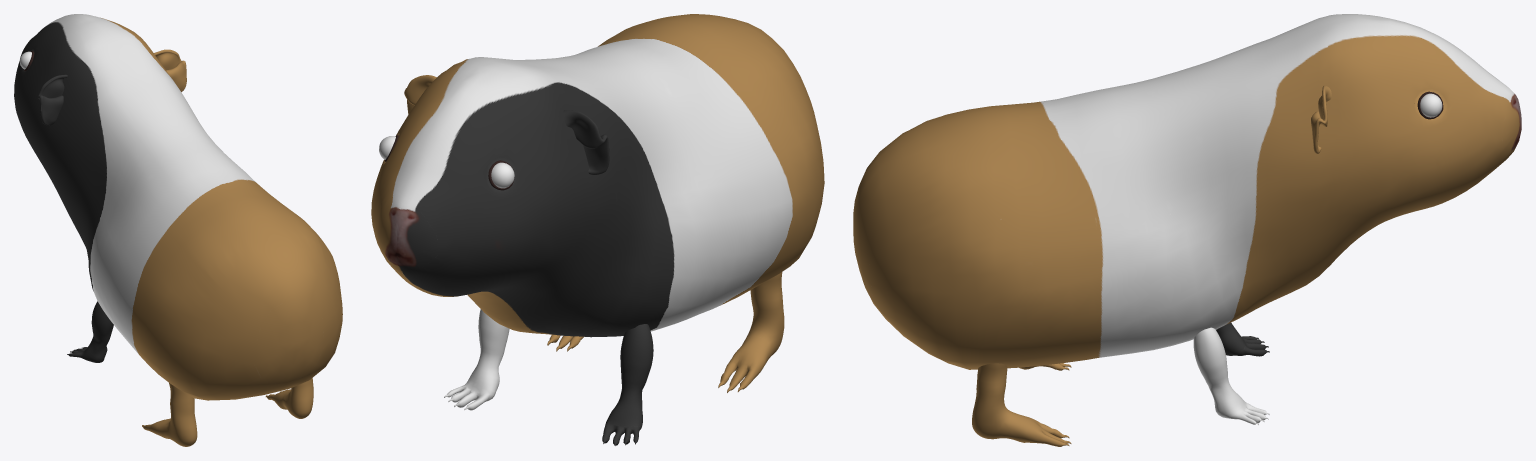
The model's file is uploads_files_2580054_guinea-pig01.fbx.
3 views of the same model, side by side, from view 1: azimuth 30°, elevation 25°; view 2: azimuth 150°, elevation 25°; view 3: azimuth 270°, elevation 25° (orthographic). The views are drawn at different scales.
Parts seen in each view (by area): view 1: body, ear; view 2: body, ear, eye; view 3: body, ear.
Part boxes in pixels (box(x1,y1,x2,y2)): body: box(14, 14, 342, 446); ear: box(38, 49, 186, 125); body: box(371, 14, 824, 445); ear: box(404, 75, 609, 174); eye: box(379, 136, 514, 188); body: box(853, 14, 1521, 446); ear: box(1311, 85, 1331, 153).
Size of the model in its own units: 7.38 by 11.38 by 17.87.
